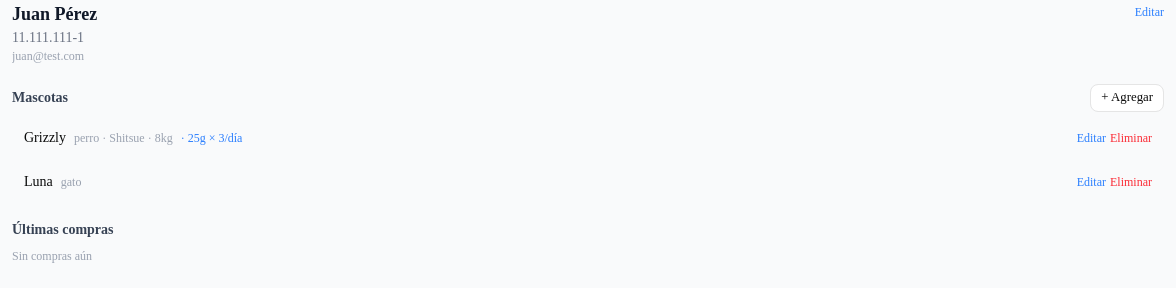
Test: ClienteDetalle — eliminación de mascotas › CD-06: click en Eliminar muestra confirmación ¿Eliminar esta mascota?
expect the text "Grizzly" is shown: met, box x1=24 y1=130 x2=66 y2=145
Click the button "Eliminar" in the row of "/día" at (1131, 138), box x1=1110 y1=130 x2=1152 y2=146
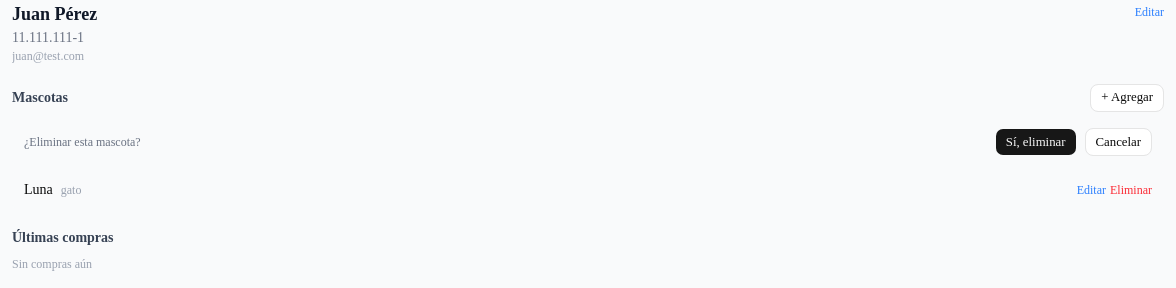
expect the text "¿Eliminar esta mascota?" is shown: met, box x1=24 y1=134 x2=141 y2=150
expect the button "Sí, eliminar" is shown: met, box x1=995 y1=128 x2=1076 y2=156
expect the button "Cancelar" is shown: met, box x1=1084 y1=128 x2=1152 y2=156
